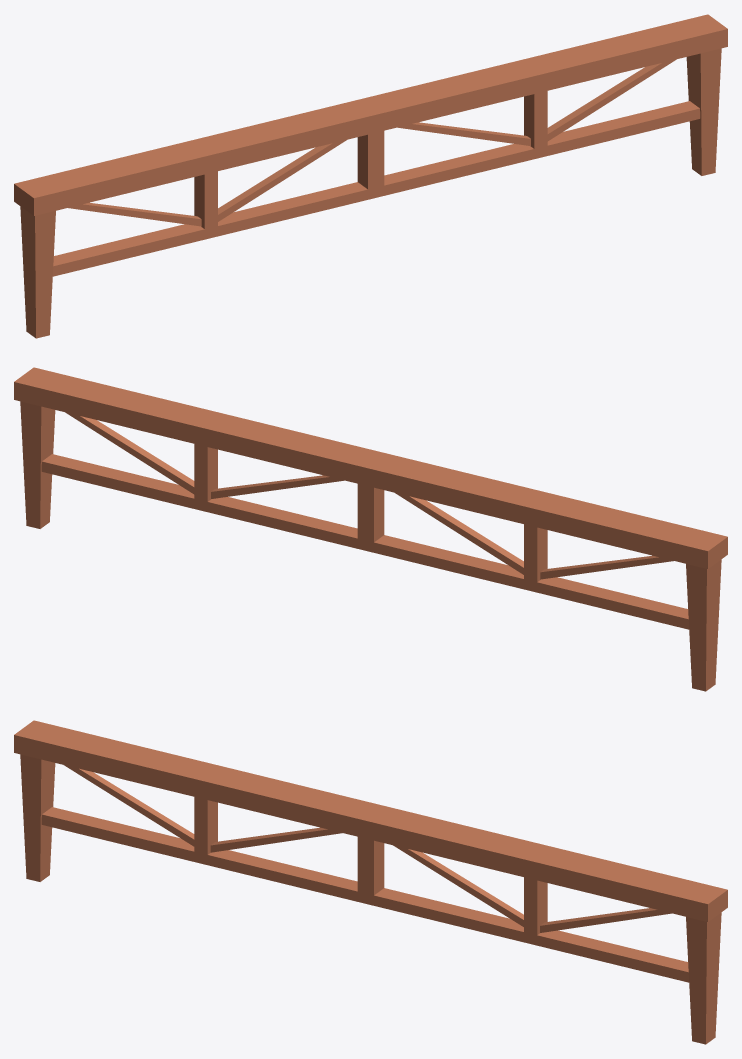
File: woodenplatformLegs.fbx
The picture shows the model from 3 angles, top to bottom: view 1: azimuth 30°, elevation 25°; view 2: azimuth 150°, elevation 25°; view 3: azimuth 330°, elevation 25°; orthographic projection.
Parts seen in each view (by area): view 1: Cube.041; view 2: Cube.041; view 3: Cube.041.
Boxes of the visible parts, left/top/right/bottom form: Cube.041: left=14, top=14, right=727, bottom=338; Cube.041: left=14, top=367, right=727, bottom=691; Cube.041: left=14, top=720, right=727, bottom=1044.
Size of the model in its own units: 439 by 88.2 by 21.81.
1 material, 1 textured.
